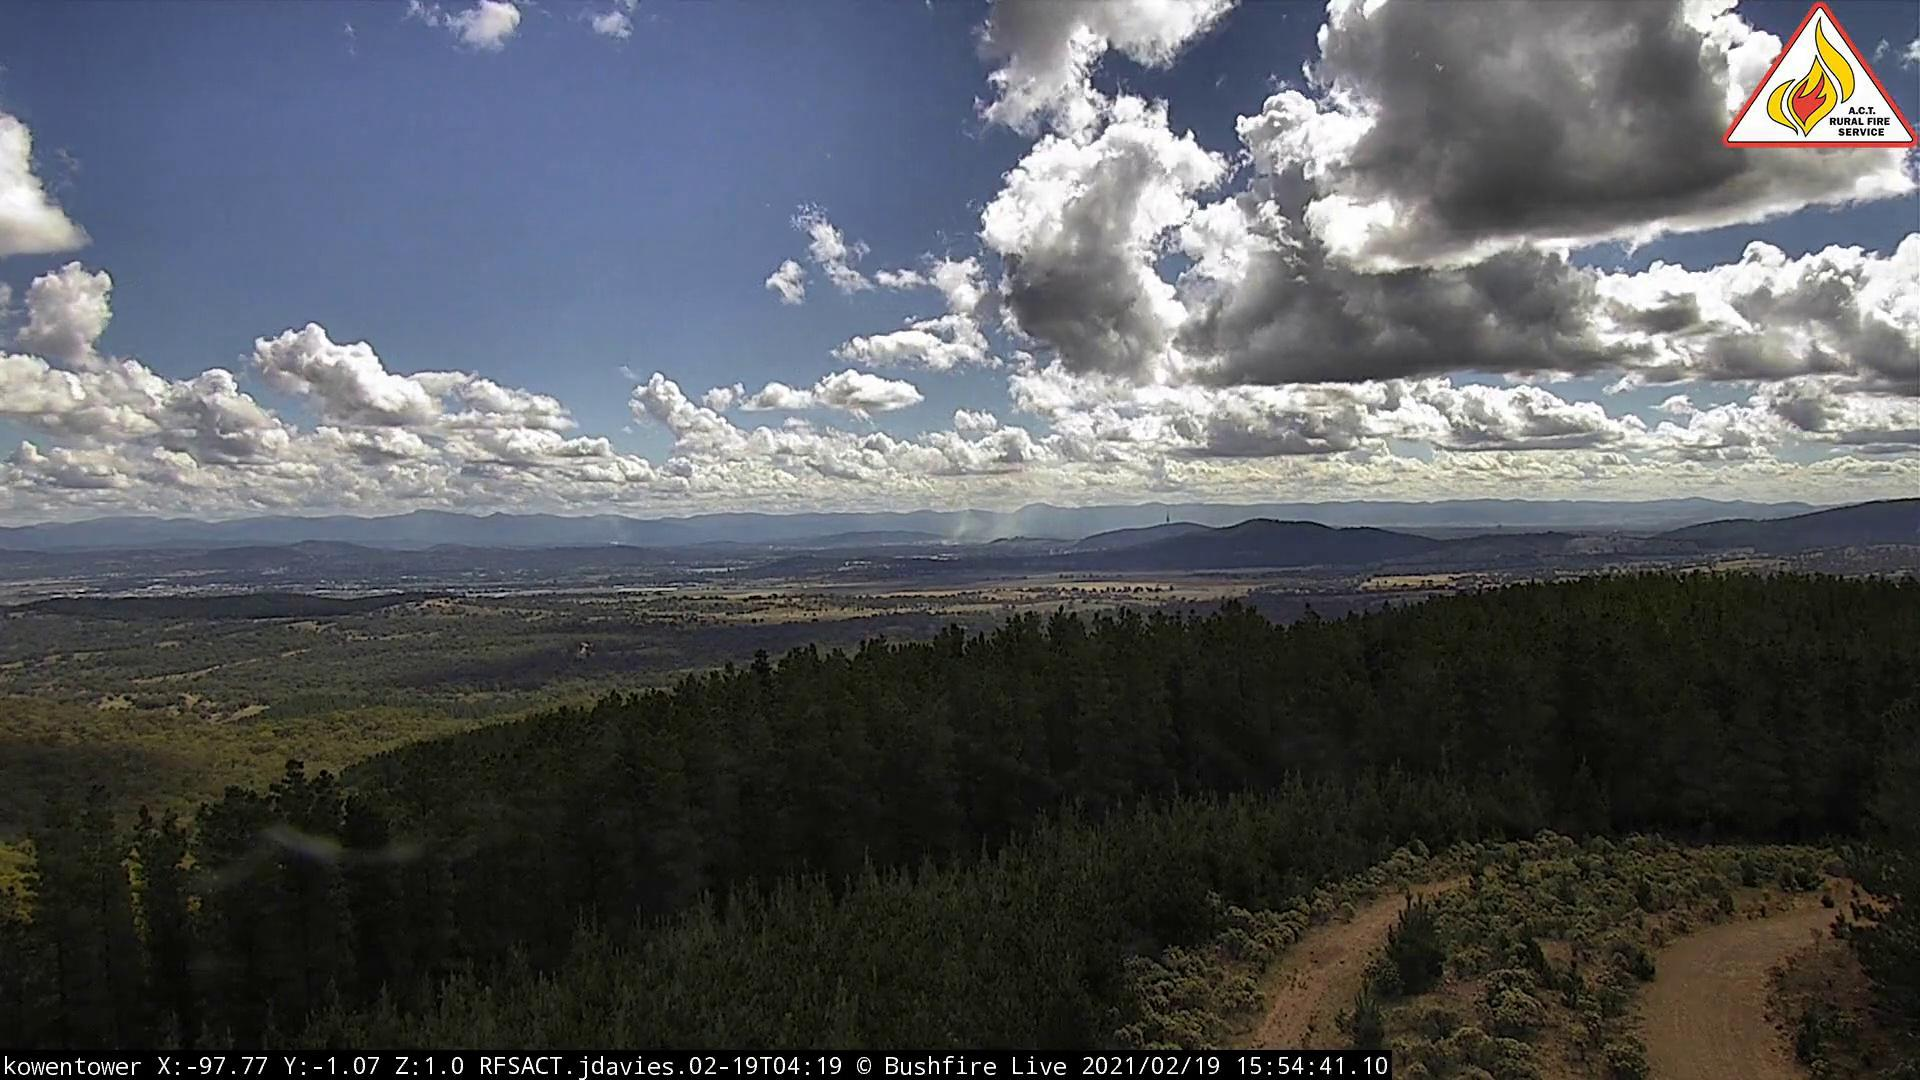Smoke: (945, 500, 1038, 549), (613, 529, 629, 553)
